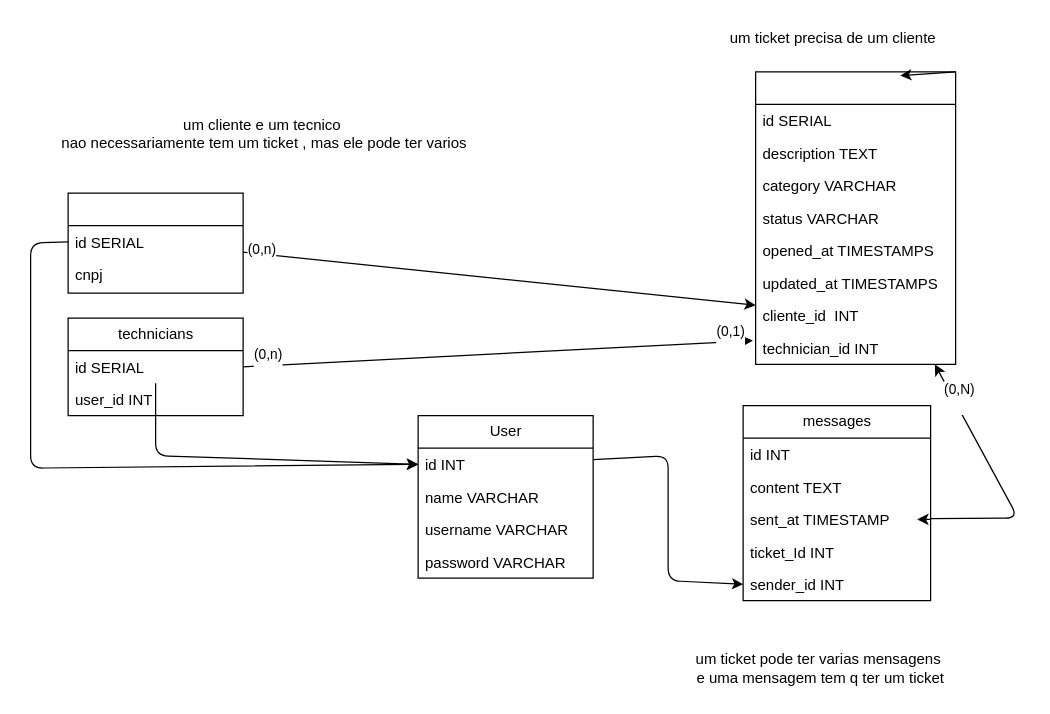
Image size: 1050x714. Some labels were removed from this diagram. Here are the shapes that lost their labels. From the top down, the box of each, then its label:
(754, 71, 956, 364): tickets
(67, 192, 243, 293): Clients
